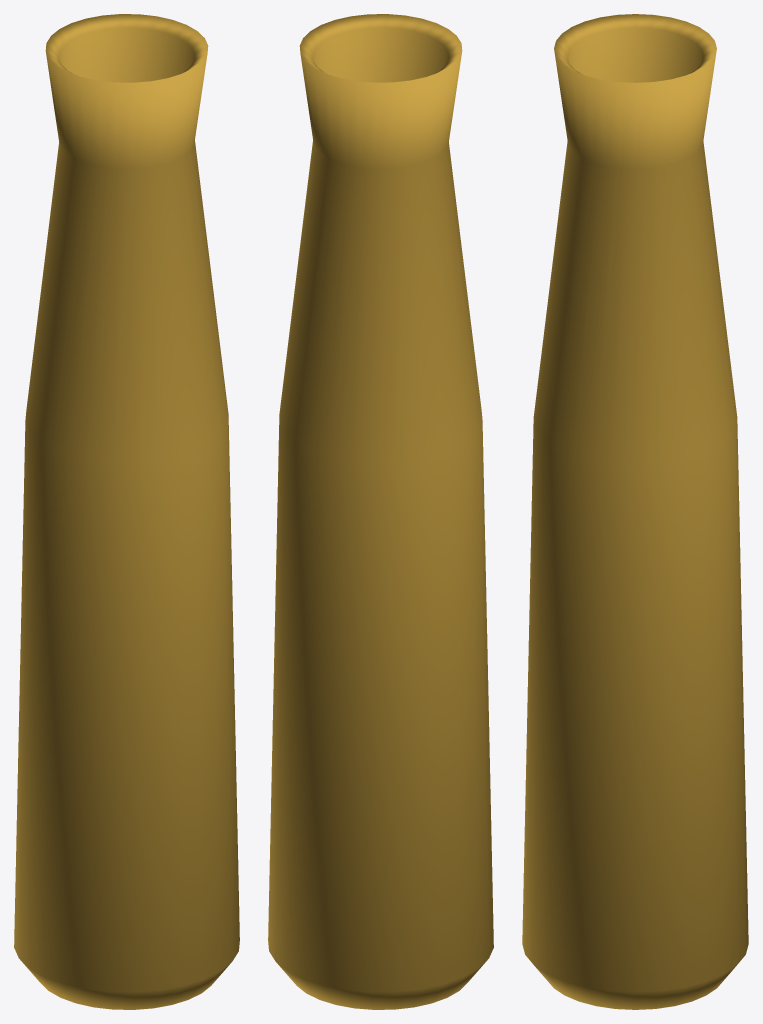
File: i_vase_7_1.glb
3 renders of one model, left to right at view 1: azimuth 30°, elevation 25°; view 2: azimuth 150°, elevation 25°; view 3: azimuth 270°, elevation 25°, orthographic.
Visible parts, largest first — view 1: o; view 2: o; view 3: o.
Boxes of the visible parts, x1,y1,x2,y2 form: o: [14, 14, 239, 1009]; o: [268, 14, 493, 1009]; o: [522, 14, 748, 1009].
Bounding box in the file's own units: 0.1 × 0.45 × 0.1.
